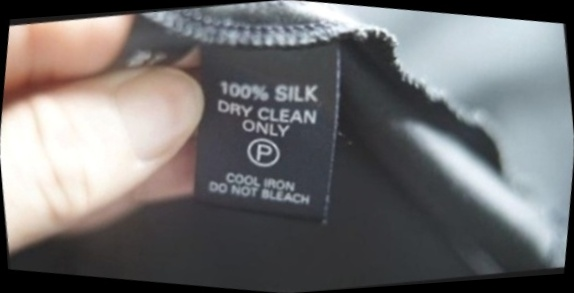dry_clean_any_solvent_except_trichloroethylene: (238, 126, 292, 178)
